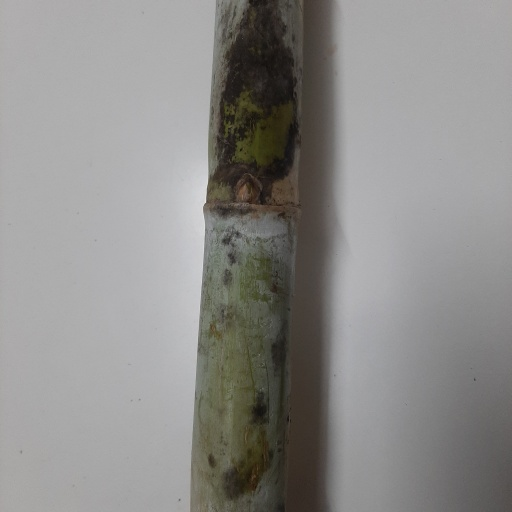Bud: (236, 177, 259, 205)
